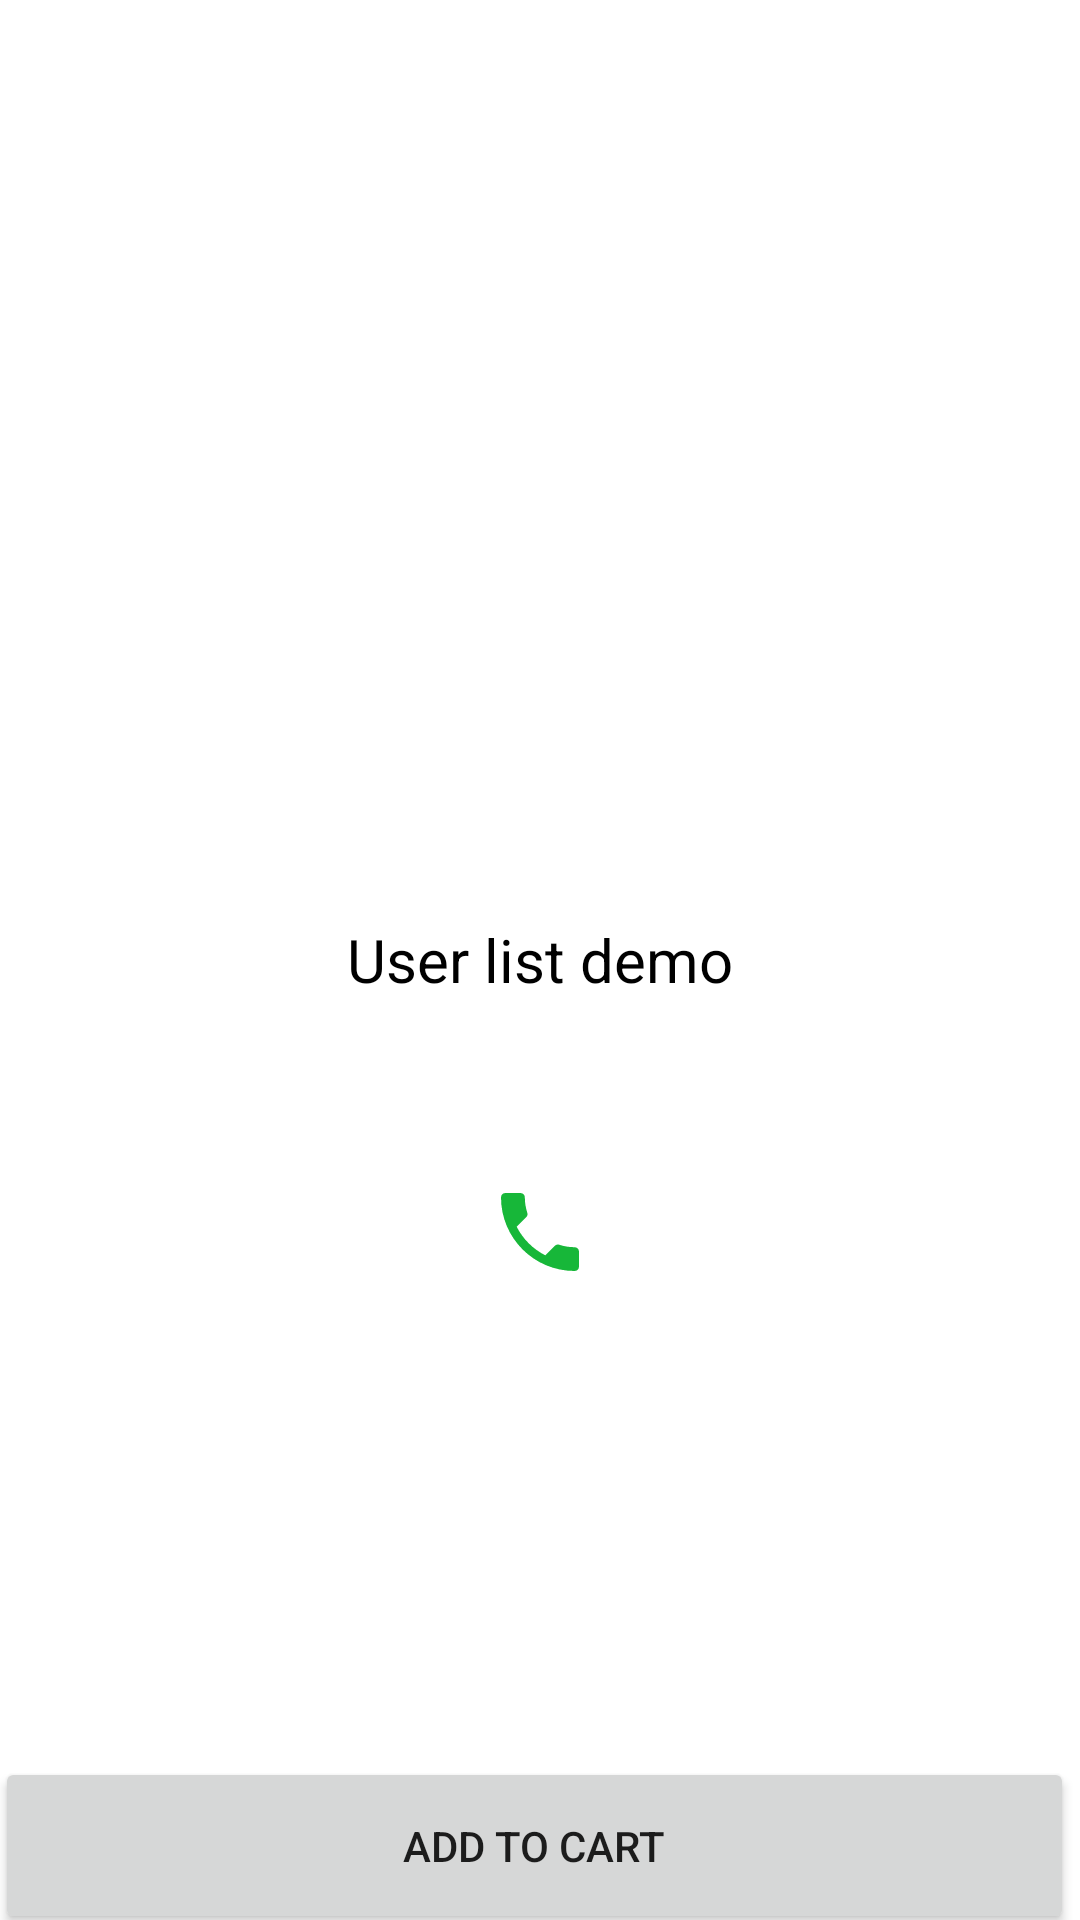

Where icons sit on this 1080px×1920px app screen, as bbox(x1, y1, x2, y2):
phone: bbox(501, 1193, 579, 1271)
